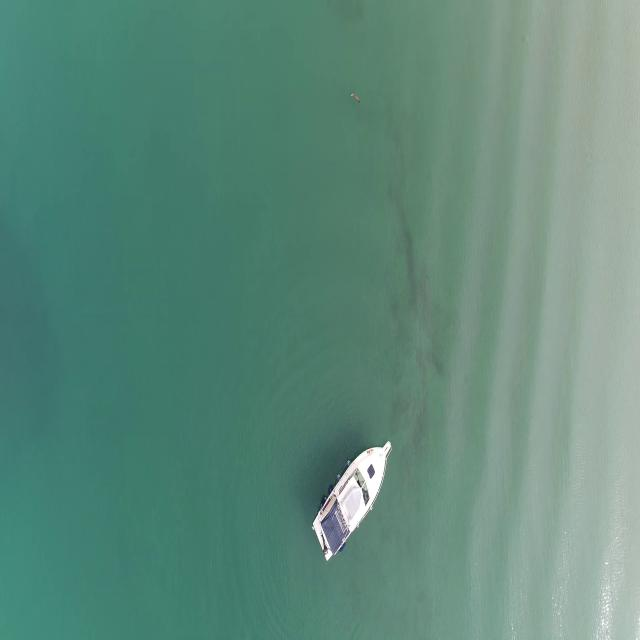boat: (313, 436, 391, 568)
wood: (350, 91, 362, 105)
